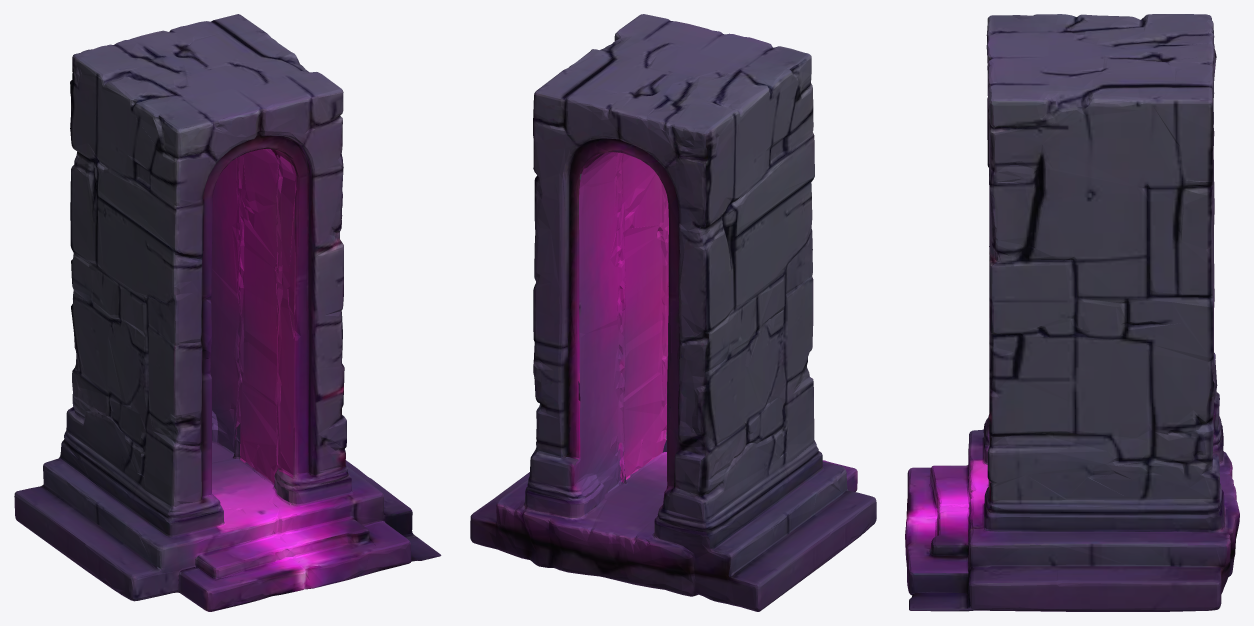
File: solitude-pillar-12-generated-2026-04-19T23-57-40-585Z.low.glb
3 renders of one model, left to right at view 1: azimuth 30°, elevation 25°; view 2: azimuth 150°, elevation 25°; view 3: azimuth 270°, elevation 25°, orthographic. The views are drawn at different scales.
Visible parts, largest first — view 1: temp_mesh.ply; view 2: temp_mesh.ply; view 3: temp_mesh.ply.
Part boxes in pixels (x1,y1,x2,y2): temp_mesh.ply: (14, 14, 441, 611); temp_mesh.ply: (470, 14, 876, 611); temp_mesh.ply: (905, 14, 1239, 611).
Bounding box in the file's own units: 1.28 × 1.97 × 1.24.
1 material, 1 textured.
